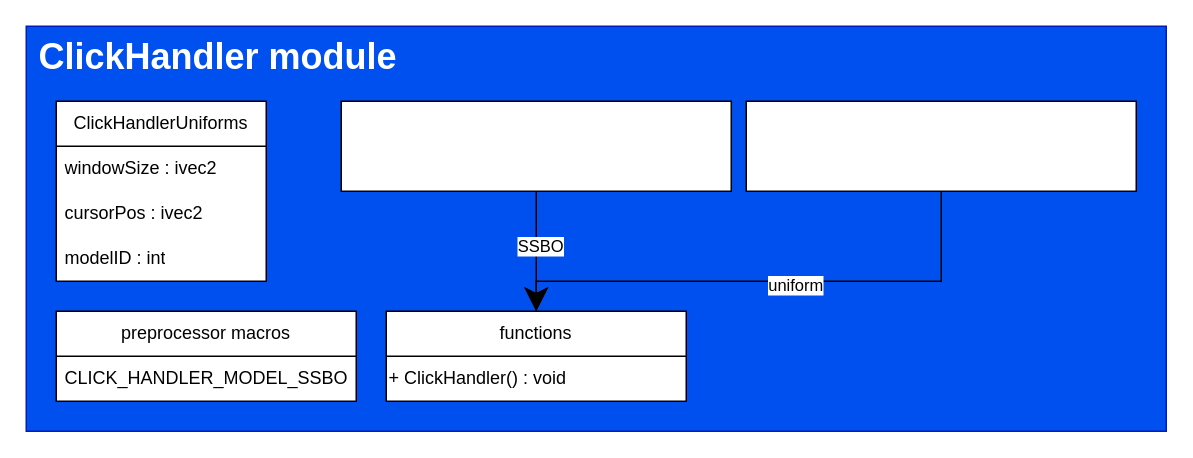
Some shapes in this 1193 by 458 pixel diagram are drawn without their labels. The centre of each missing label's shape, as x and y in pixels:
"clickHandlerData : ClickHandlerUniforms" belongs at point 940,145.
"clickHandlerModel : vec4[4]" belongs at point 535,145.
